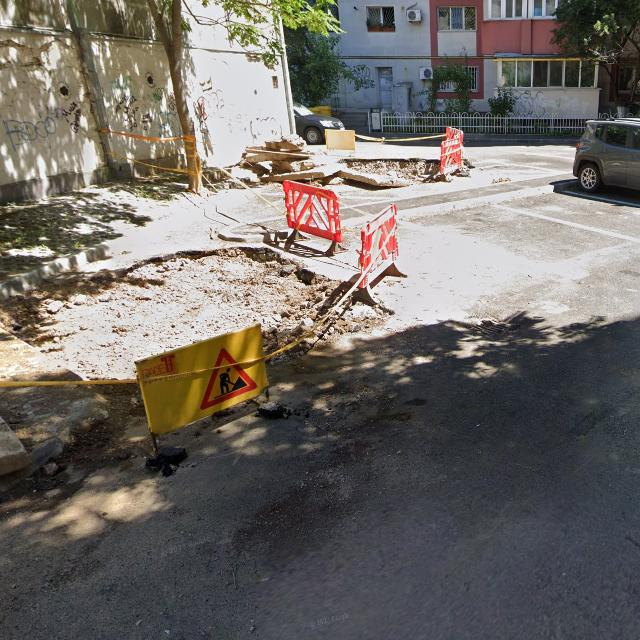warn_construction: (200, 348, 257, 410)
